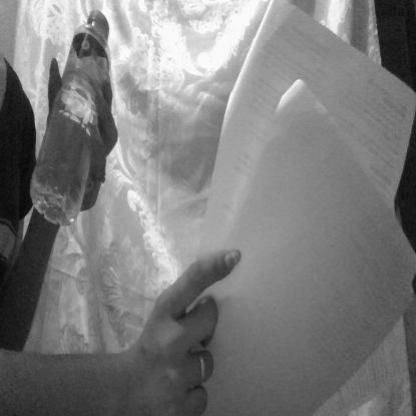Plastic Bottle: (19, 2, 129, 259)
